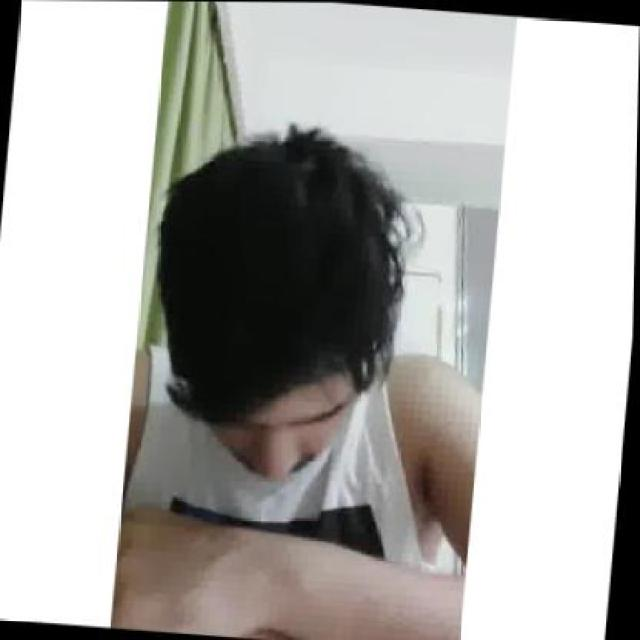inattentif: (143, 116, 375, 490)
